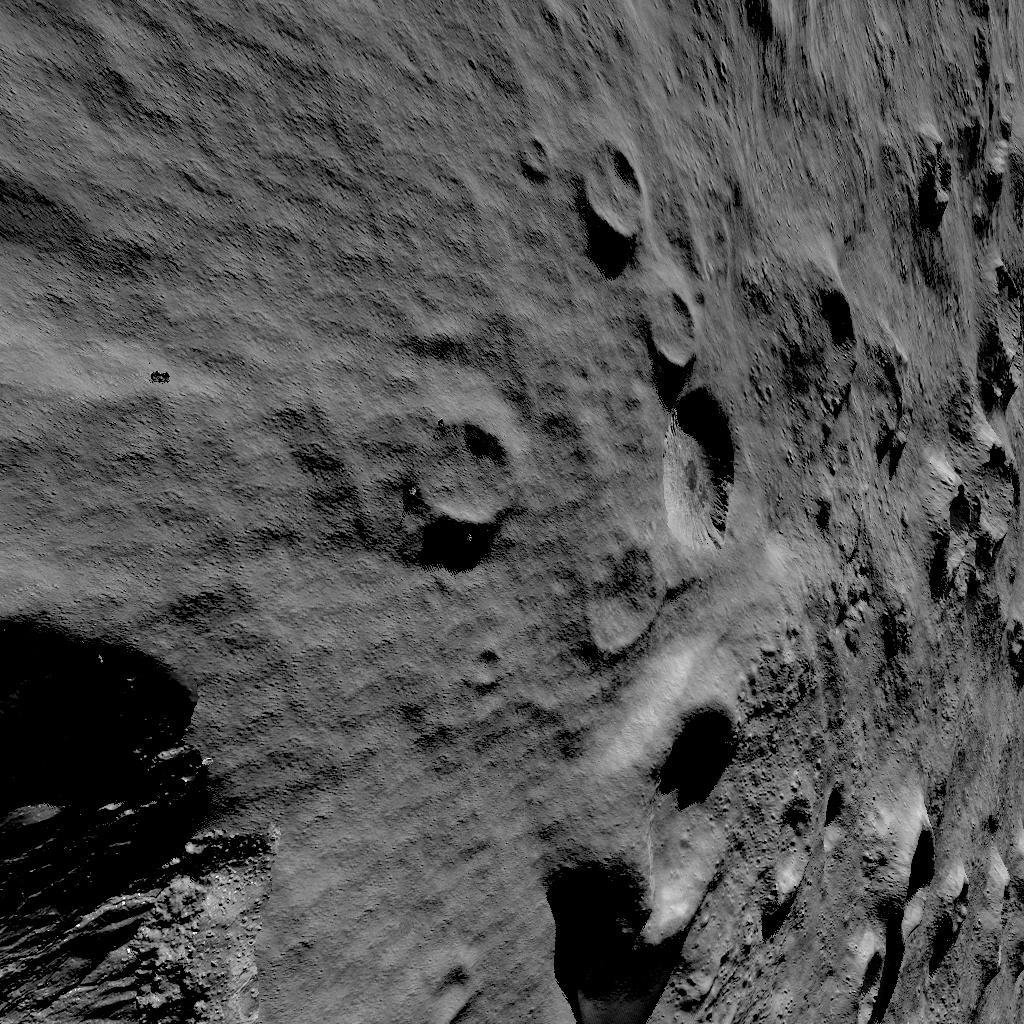Boulders: (0, 598, 216, 1024)
Crater: (546, 664, 740, 1024), (763, 765, 1024, 1024), (576, 138, 740, 548), (914, 298, 1018, 642), (774, 282, 892, 480), (898, 112, 1020, 258), (404, 415, 526, 540), (731, 0, 1003, 53)
Plan surface: (0, 0, 558, 395), (238, 565, 526, 1024), (0, 410, 341, 553)
